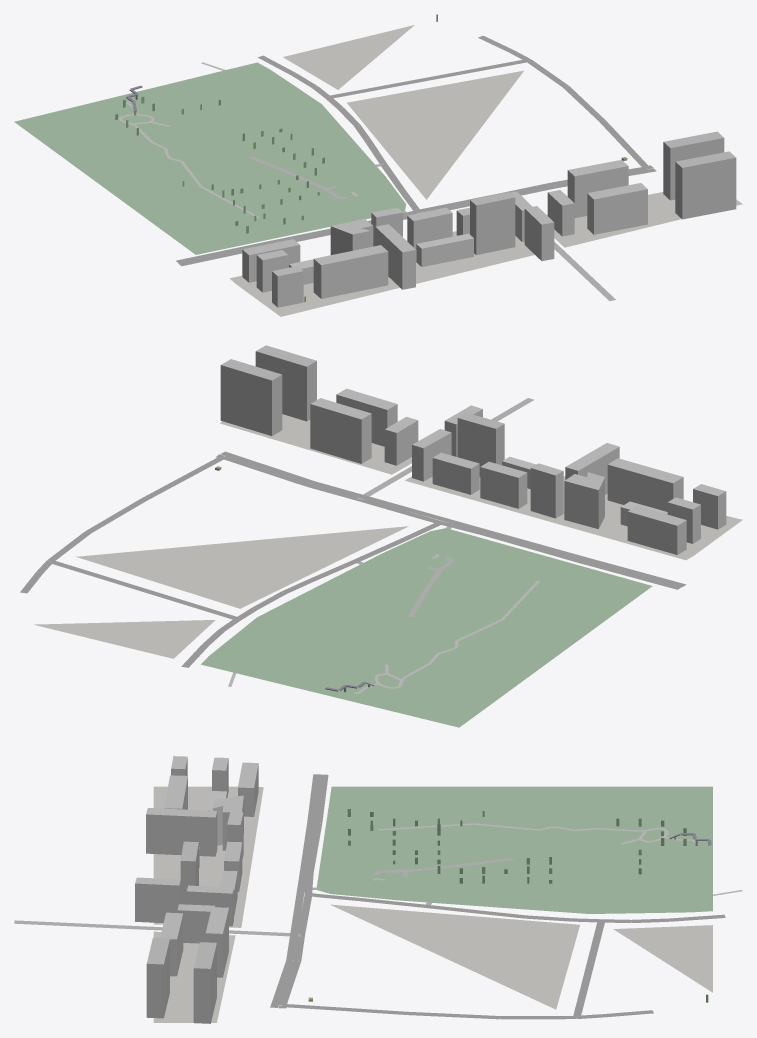
3 views of the same model, one above another, from view 1: azimuth 30°, elevation 25°; view 2: azimuth 150°, elevation 25°; view 3: azimuth 270°, elevation 25° (orthographic). The views are drawn at different scales.
Bounding box in the file's own units: 527 × 55.26 × 652.
